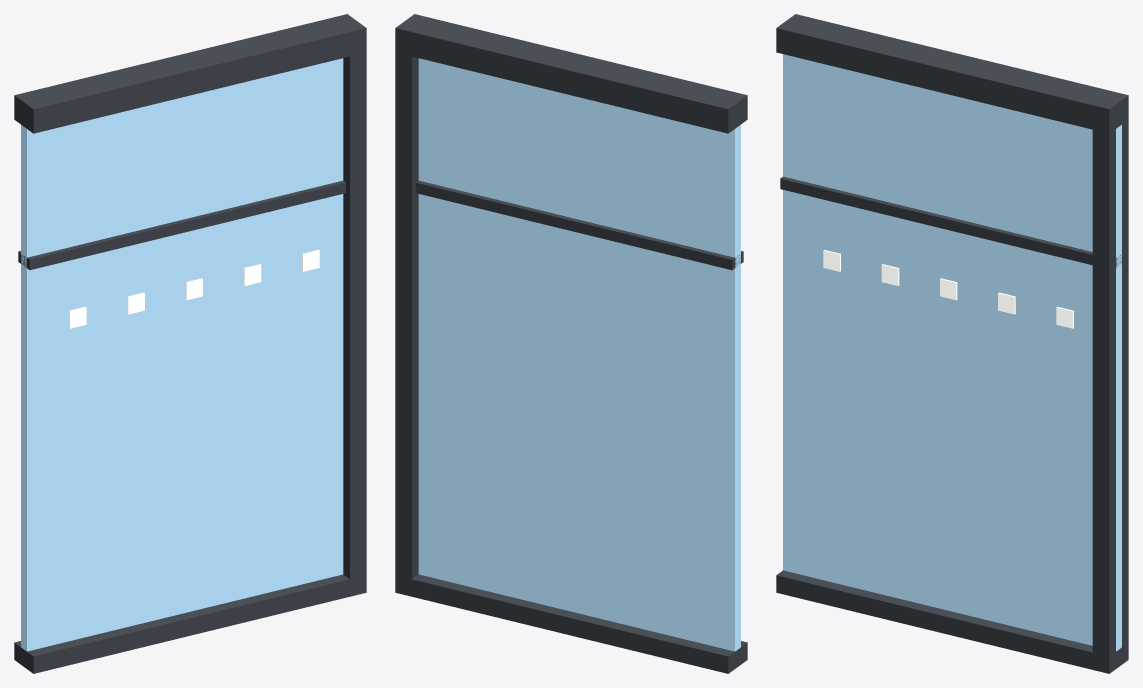
File: glass_front.glb
3 renders of one model, left to right at view 1: azimuth 30°, elevation 25°; view 2: azimuth 150°, elevation 25°; view 3: azimuth 330°, elevation 25°, orthographic.
Parts seen in each view (by area): view 1: glass_front_mesh; view 2: glass_front_mesh; view 3: glass_front_mesh.
Part boxes in pixels (<box>): glass_front_mesh: <box>14,14,366,673</box>; glass_front_mesh: <box>395,14,747,673</box>; glass_front_mesh: <box>776,14,1128,673</box>.
Size of the model in its own units: 1 by 1.62 by 0.1.
